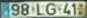1: (71, 2, 76, 16)
4: (62, 2, 71, 16)
8: (20, 3, 29, 16)
9: (10, 3, 20, 16)
G: (45, 2, 56, 16)
L: (36, 3, 45, 15)
